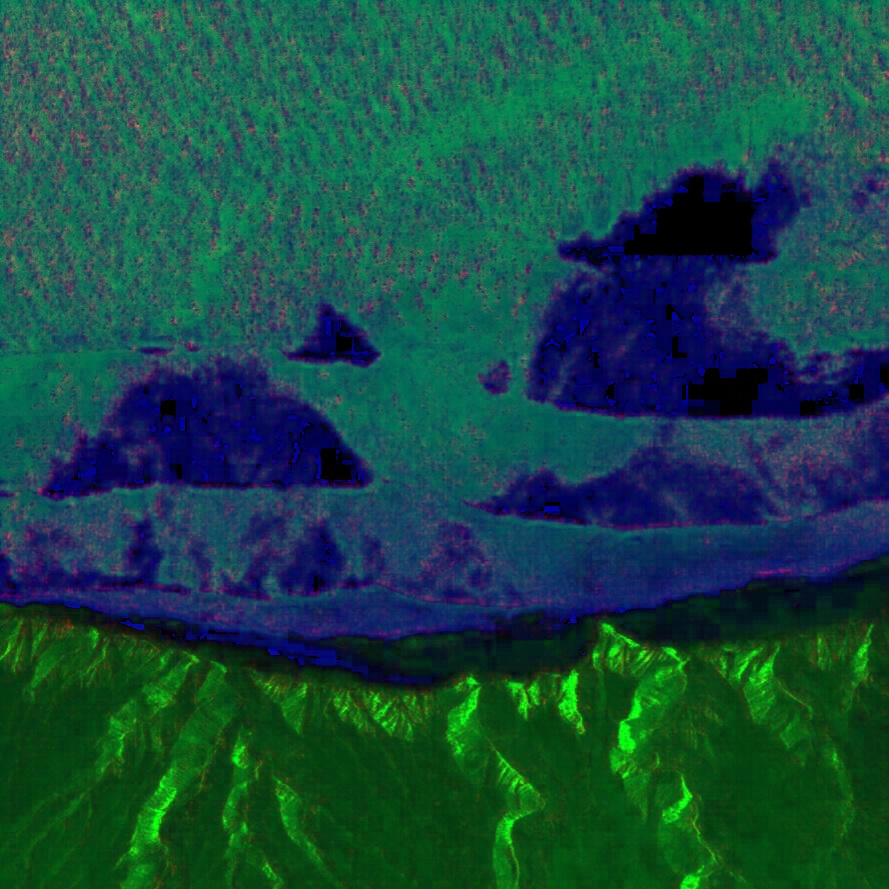rip_current: (299, 175, 566, 577)
